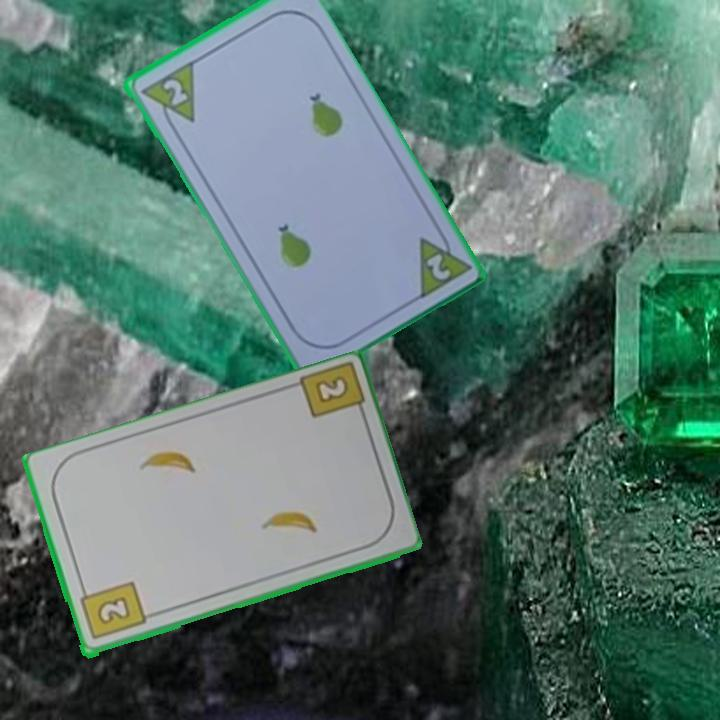2b: (76, 578, 148, 643), (311, 372, 351, 407)
2p: (136, 58, 198, 135), (421, 249, 453, 283)
